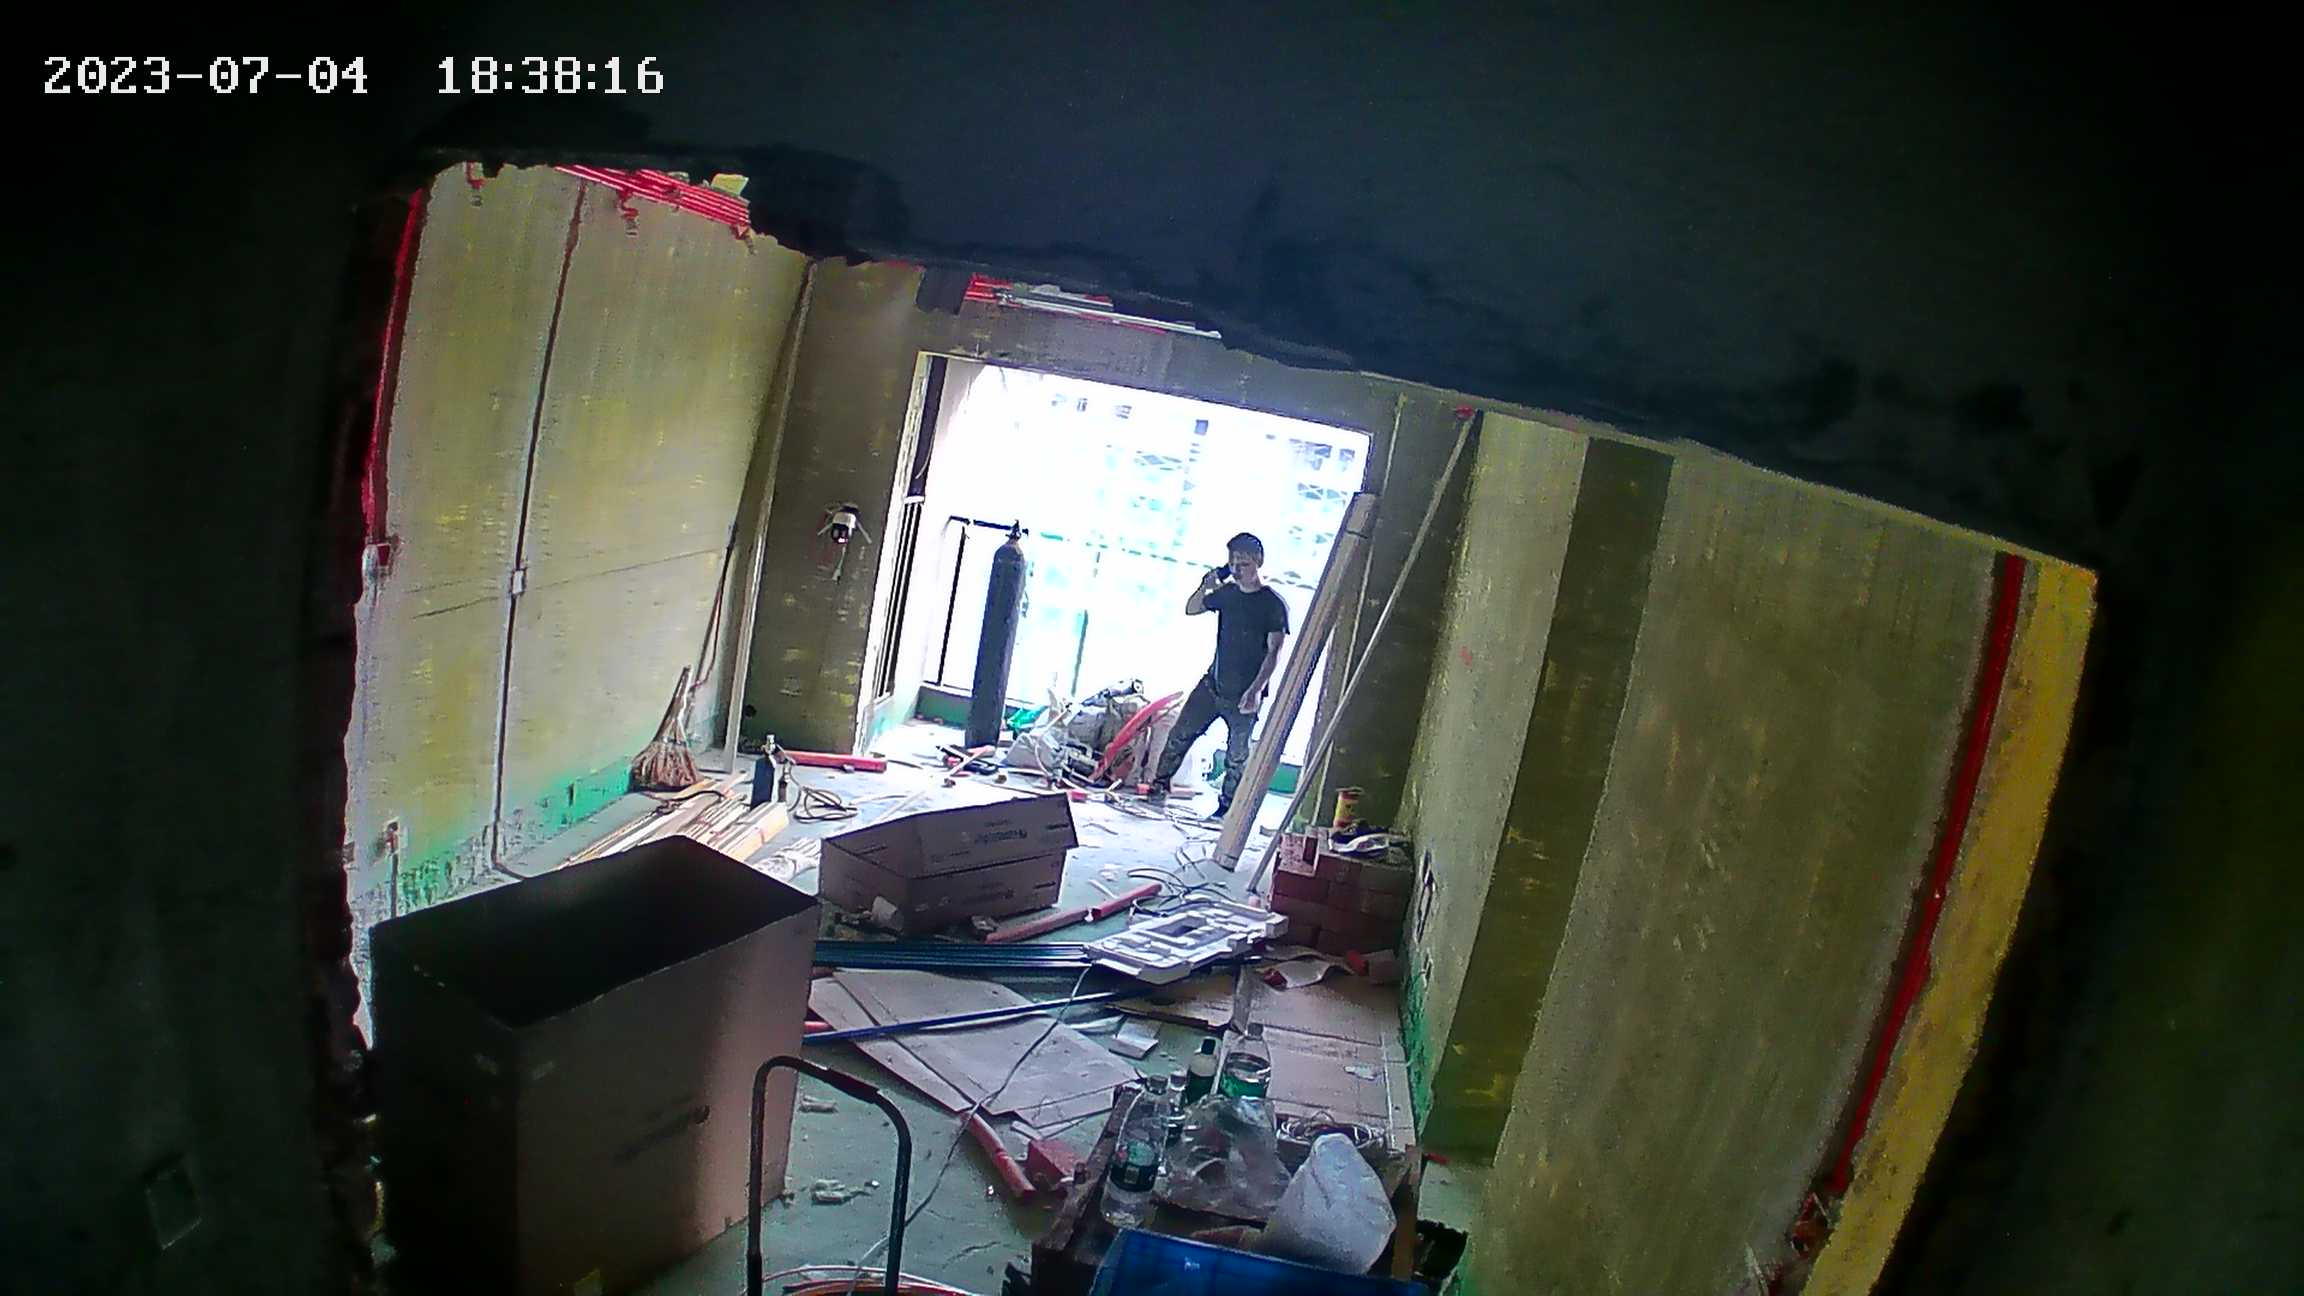people: (1143, 527, 1281, 822)
window: (935, 357, 1350, 778)
